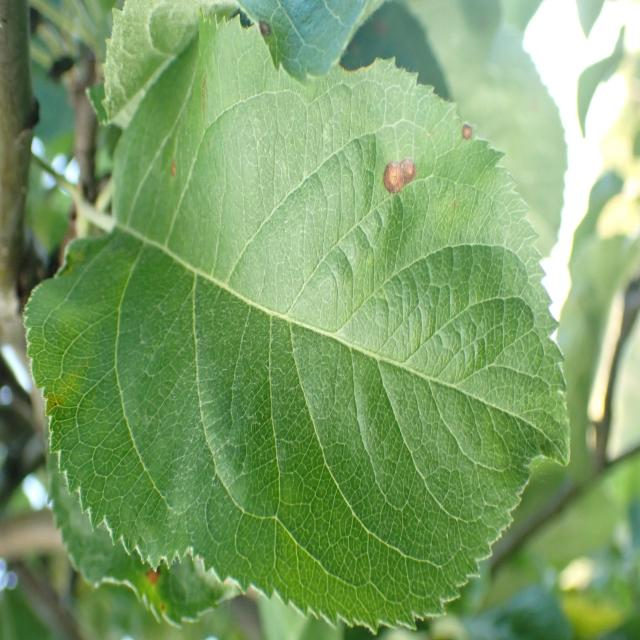Black Rot: (370, 146, 429, 201), (442, 101, 495, 161), (158, 130, 193, 194)
